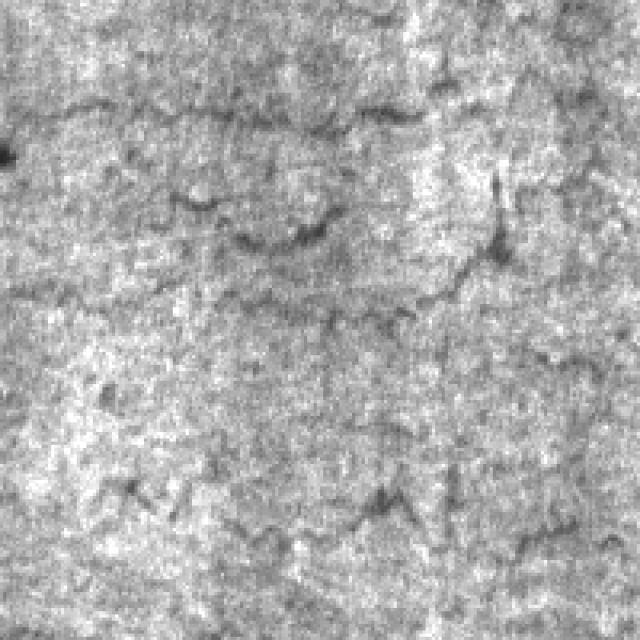crazing: (118, 54, 608, 352), (86, 384, 637, 573), (19, 3, 534, 144)
